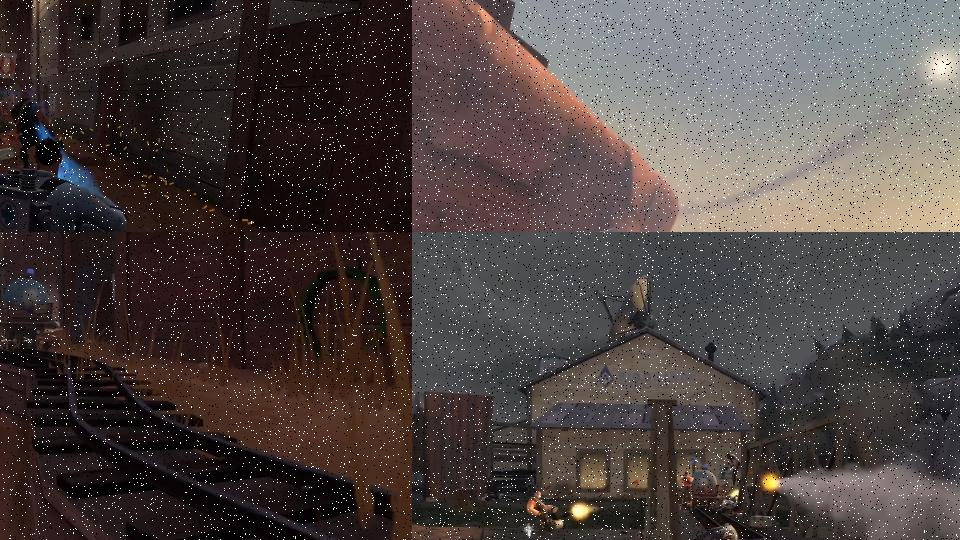Enemy: (0, 136, 129, 232), (10, 92, 65, 169), (527, 491, 574, 534), (688, 522, 768, 540), (679, 471, 695, 512), (726, 453, 742, 490)
